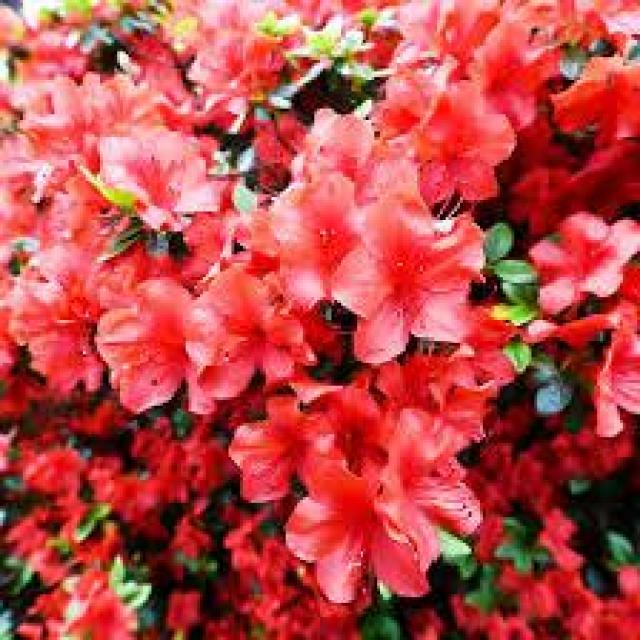organic waste: (278, 417, 478, 609), (321, 318, 530, 453), (237, 151, 383, 326), (334, 177, 469, 349), (159, 269, 327, 397)
